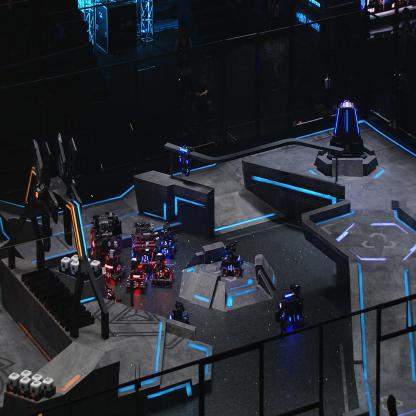car: (88, 212, 122, 266), (275, 283, 305, 333), (129, 221, 158, 271), (89, 264, 121, 309), (220, 240, 244, 278), (166, 300, 191, 336), (151, 252, 175, 286), (126, 256, 148, 293), (156, 222, 177, 260), (101, 249, 125, 282)
